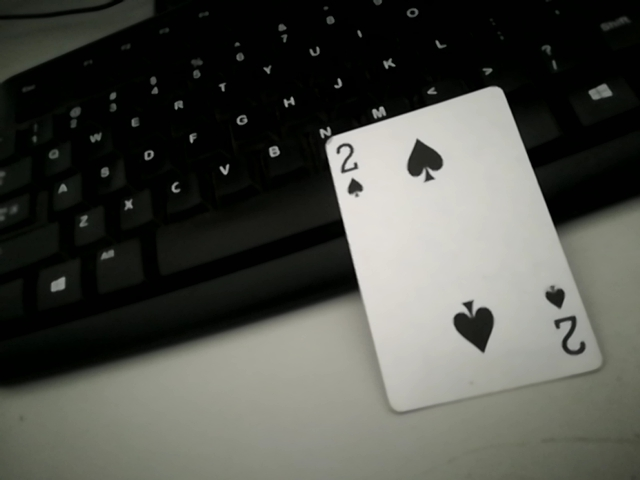ht 2: (317, 91, 597, 409)
